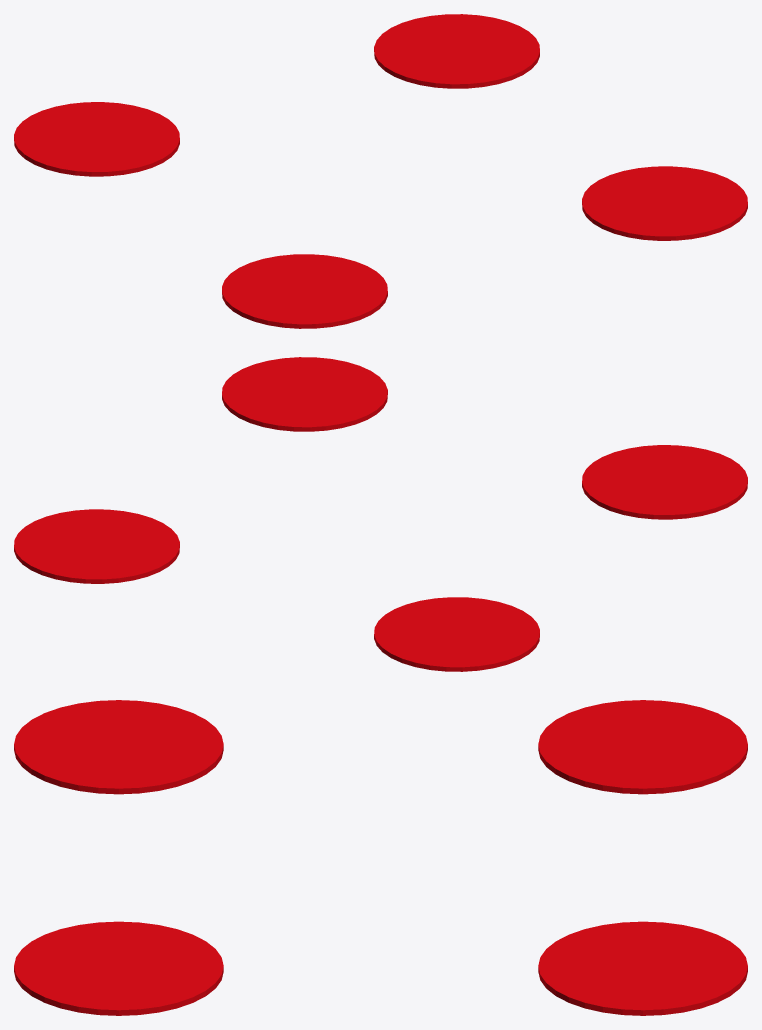
Rendered from DeadZoneDemonsSpikes.fbx.
The picture shows the model from 3 angles, top to bottom: view 1: azimuth 30°, elevation 25°; view 2: azimuth 150°, elevation 25°; view 3: azimuth 270°, elevation 25°; orthographic projection. The views are drawn at different scales.
Parts seen in each view (by area): view 1: Cylinder; view 2: Cylinder; view 3: Cylinder.
Part boxes in pixels (left/top/right/bottom): Cylinder: left=14, top=14, right=747, bottom=328; Cylinder: left=14, top=357, right=747, bottom=671; Cylinder: left=14, top=700, right=747, bottom=1015.
Size of the model in its own units: 70 by 0.5993 by 70.
